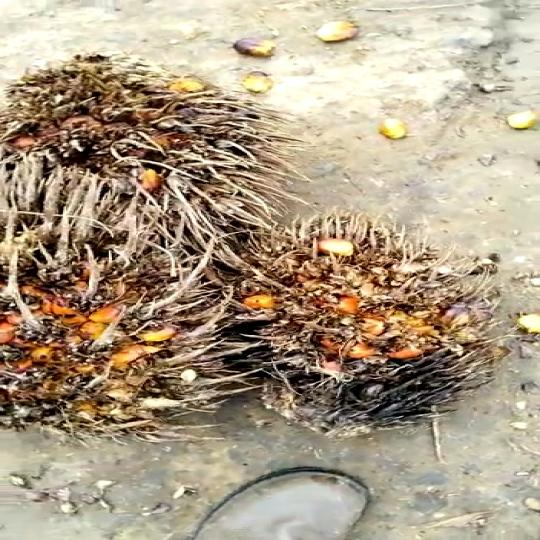terlalu masak: (202, 204, 528, 436), (0, 34, 293, 195)
